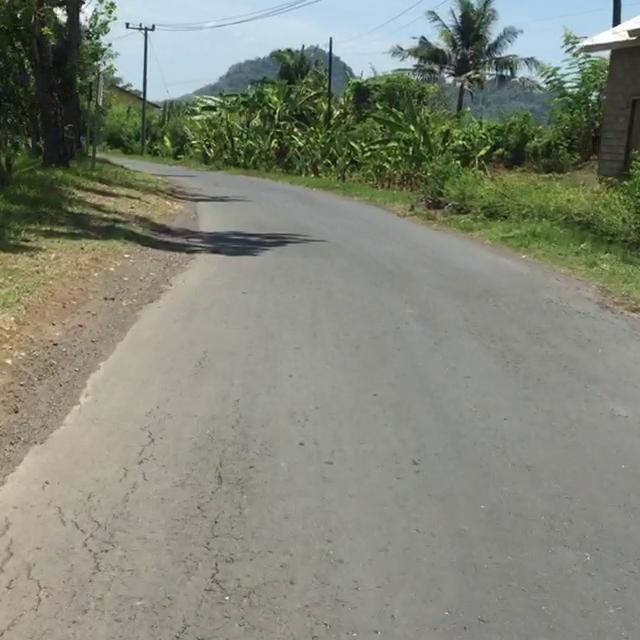retak_kulit_buaya: (162, 444, 248, 640), (0, 492, 112, 640), (111, 373, 171, 520)
